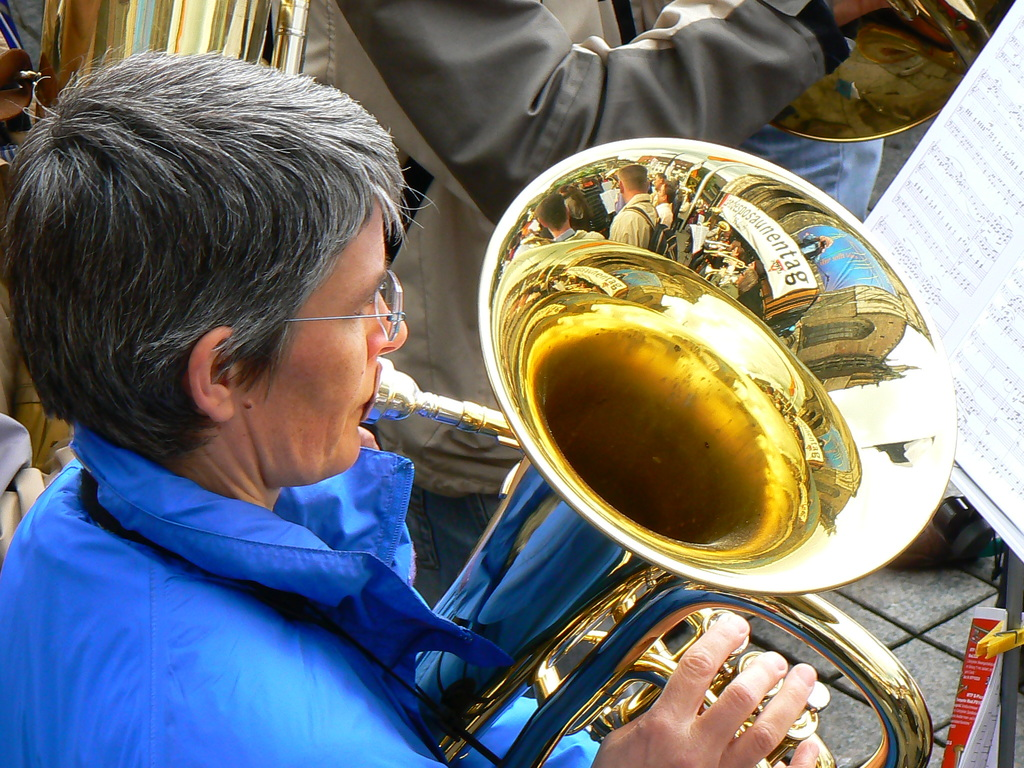Person: (0, 40, 820, 768), (299, 0, 890, 610), (503, 160, 769, 322)
